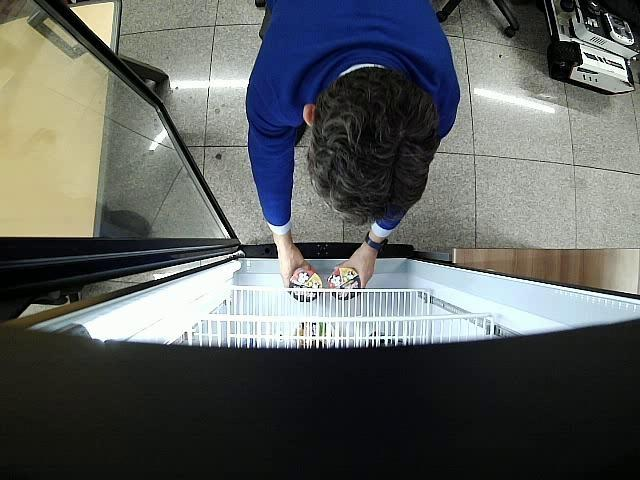08_buldak_S: (328, 268, 361, 301), (290, 268, 321, 303)
